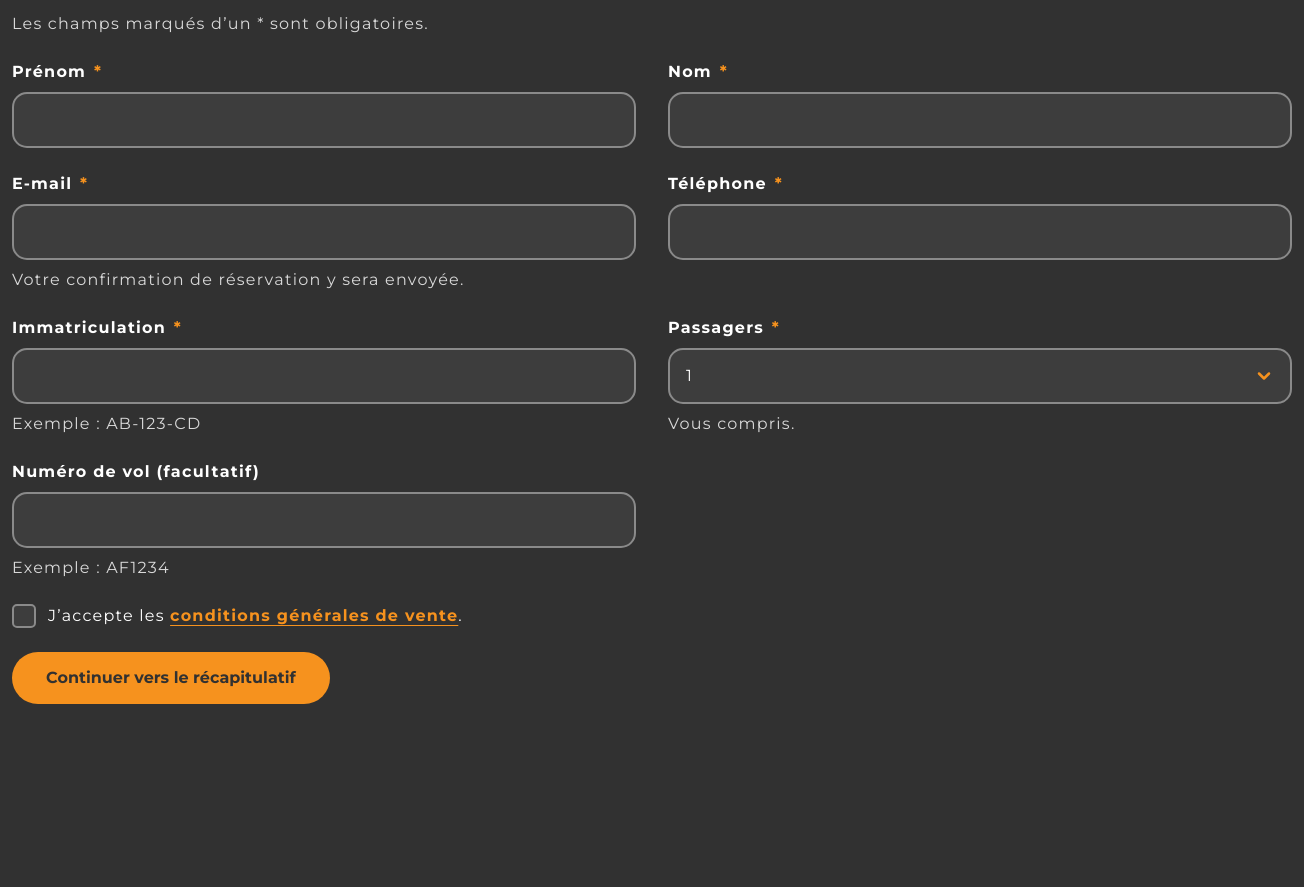
Scenario: CustomerForm › bloque l'envoi, résume les erreurs et place le focus sur le premier champ
What coordinates should you click on to do the following:
click the button "Continuer vers le récapitulatif"
I would click on:
 (171, 678)
Its box is left=12, top=652, right=330, bottom=704.
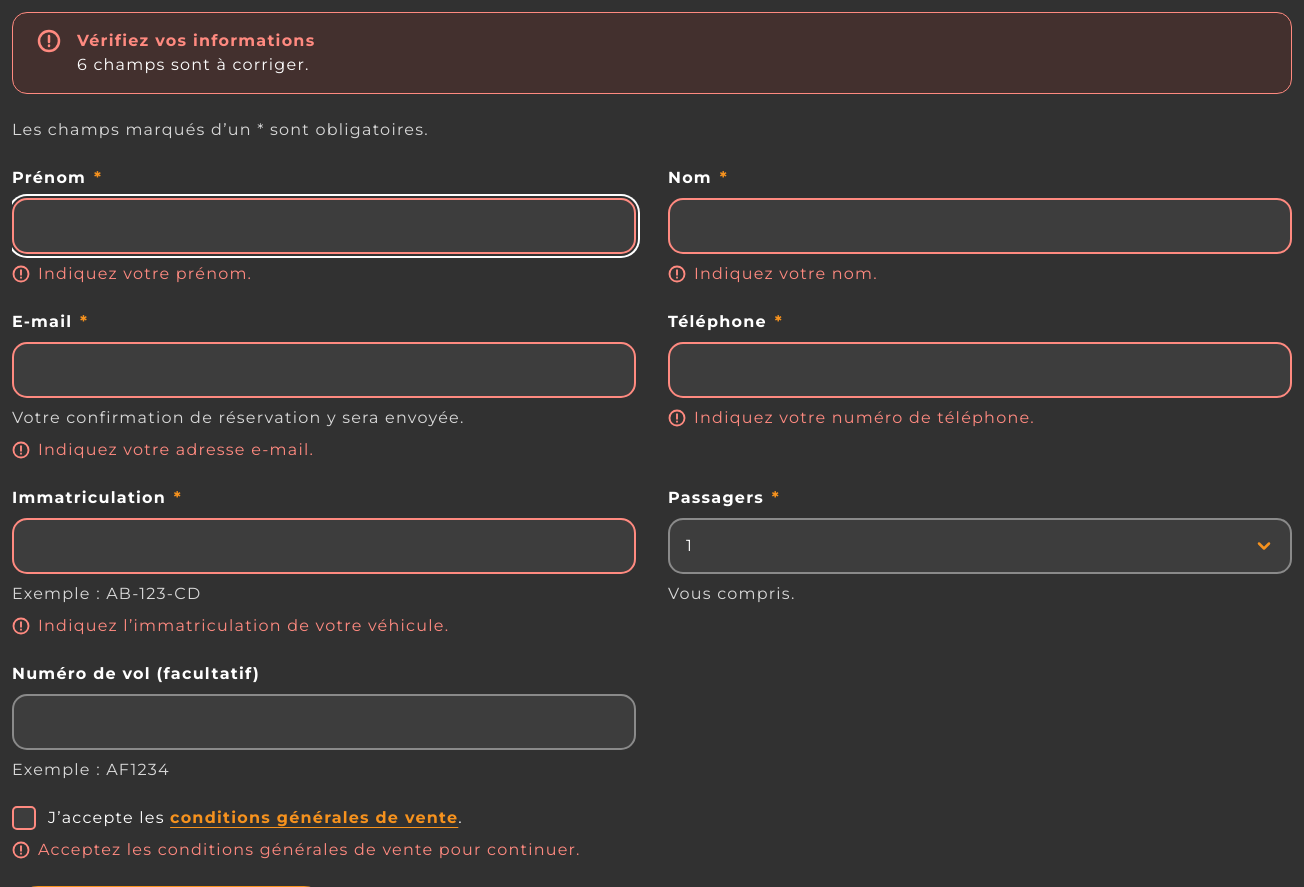
Expected: the message shows "6 champs sont à corriger.", left=77, top=55, right=310, bottom=74
Expected: the text "Indiquez votre prénom." is shown, left=38, top=262, right=252, bottom=286
Expected: the text "Acceptez les conditions générales de vente pour continuer." is shown, left=38, top=838, right=581, bottom=862
